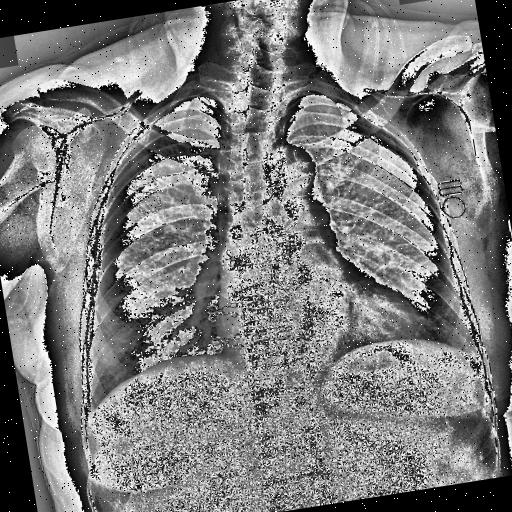0- Aortic enlargement: (267, 140, 324, 214), (259, 138, 321, 200), (256, 140, 318, 198)
2- Calcification: (302, 170, 314, 186)
3- Cardiomegaly: (212, 272, 429, 381), (212, 269, 434, 372)
